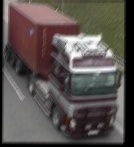truck: (6, 2, 123, 134)
